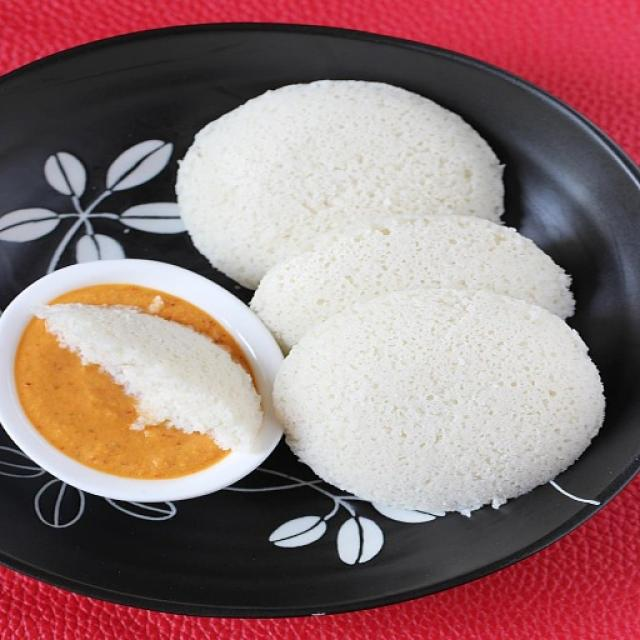IDLI: (178, 81, 602, 511)
